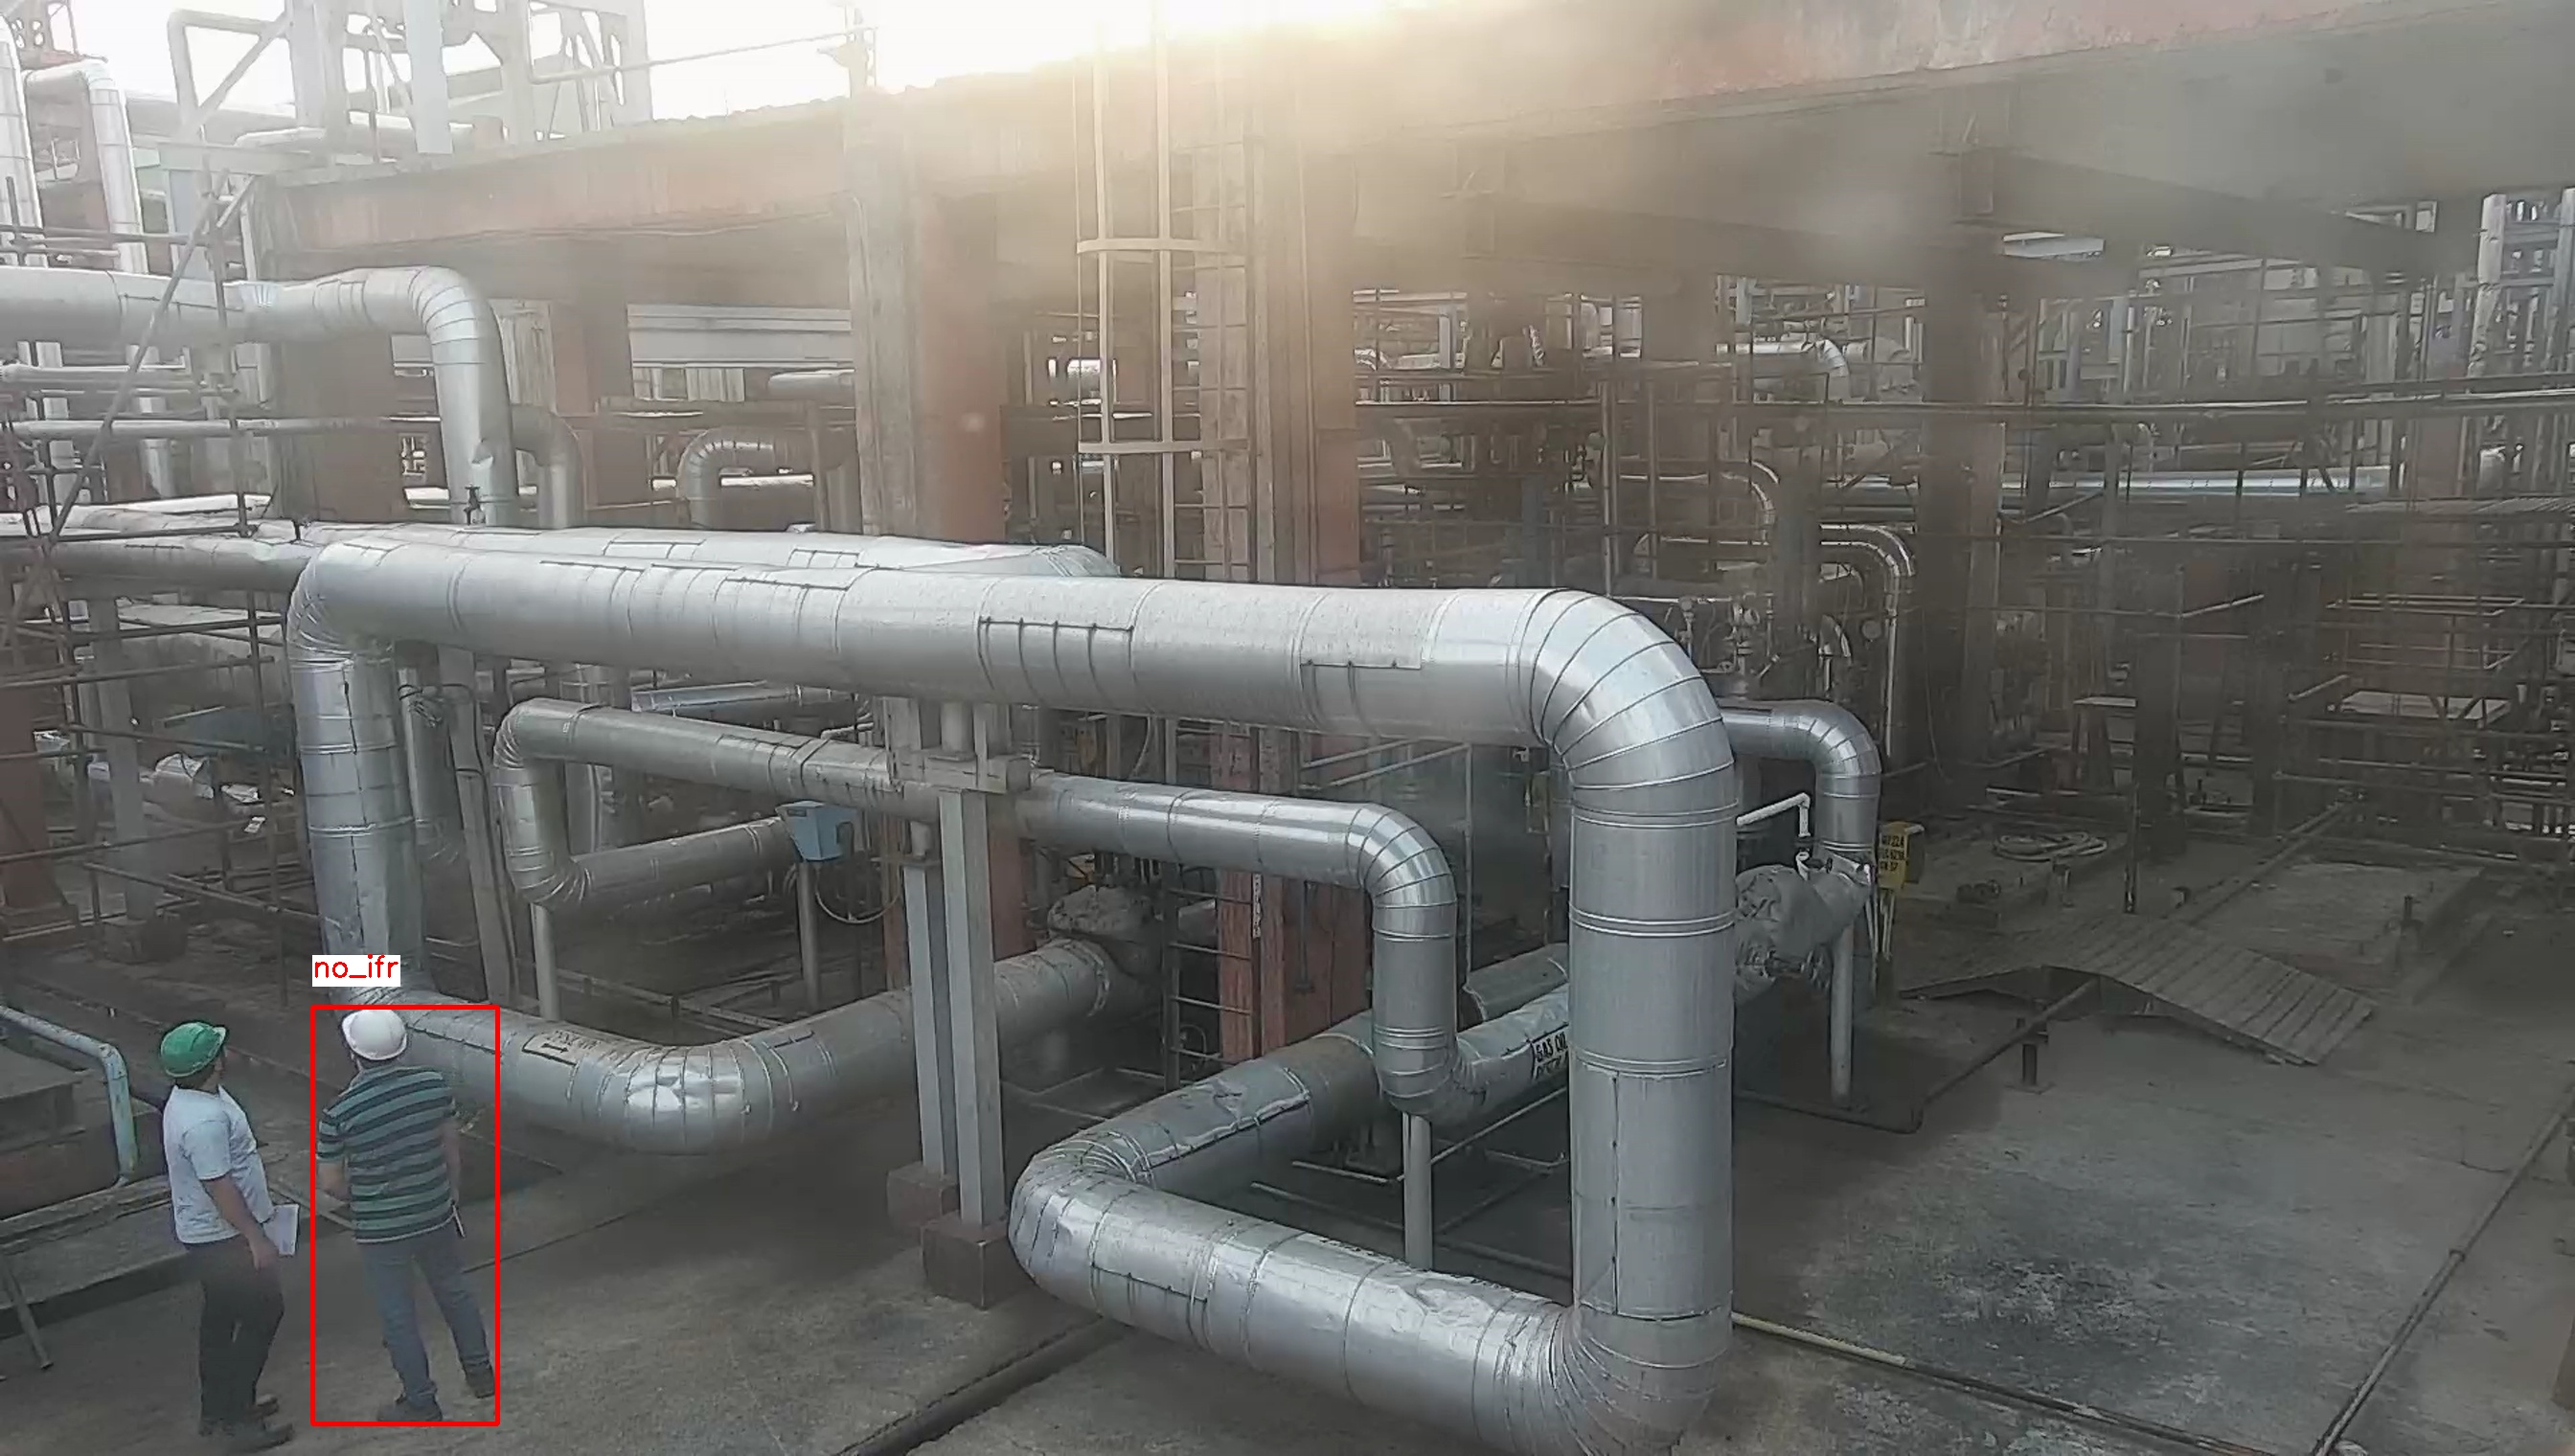Boots: (223, 1405, 295, 1451)
Helmets: (154, 1015, 235, 1076), (341, 1007, 423, 1061)
